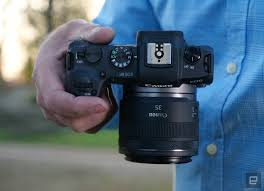camera: (65, 30, 213, 163)
